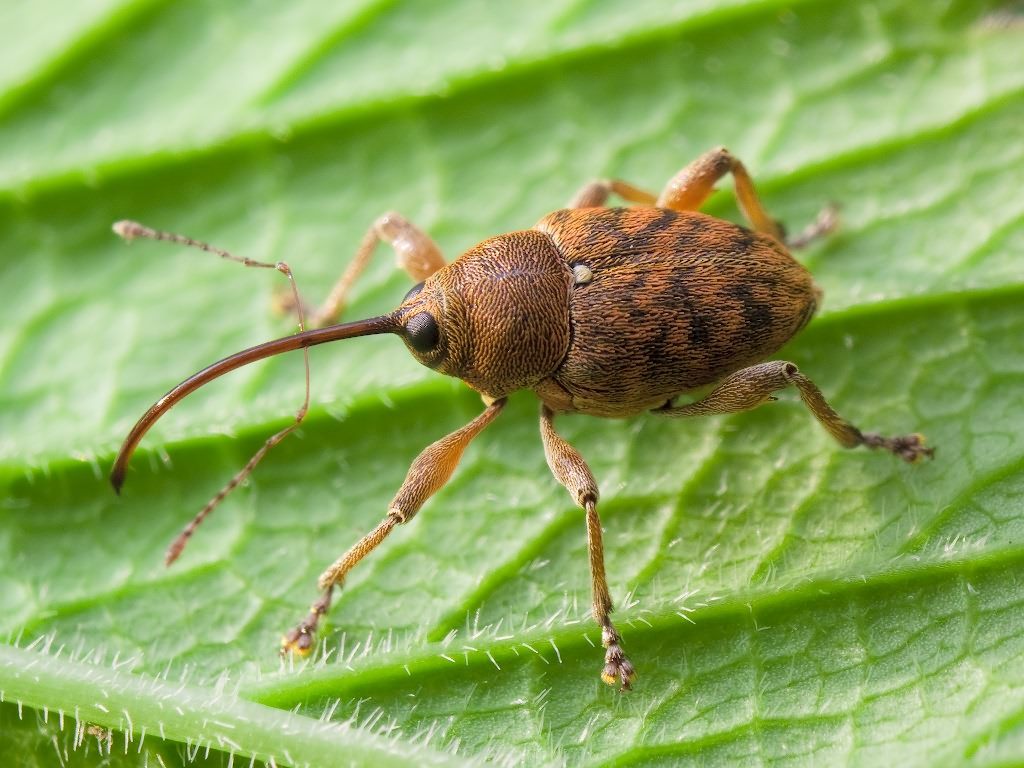dolgonosik: (106, 142, 946, 695)
